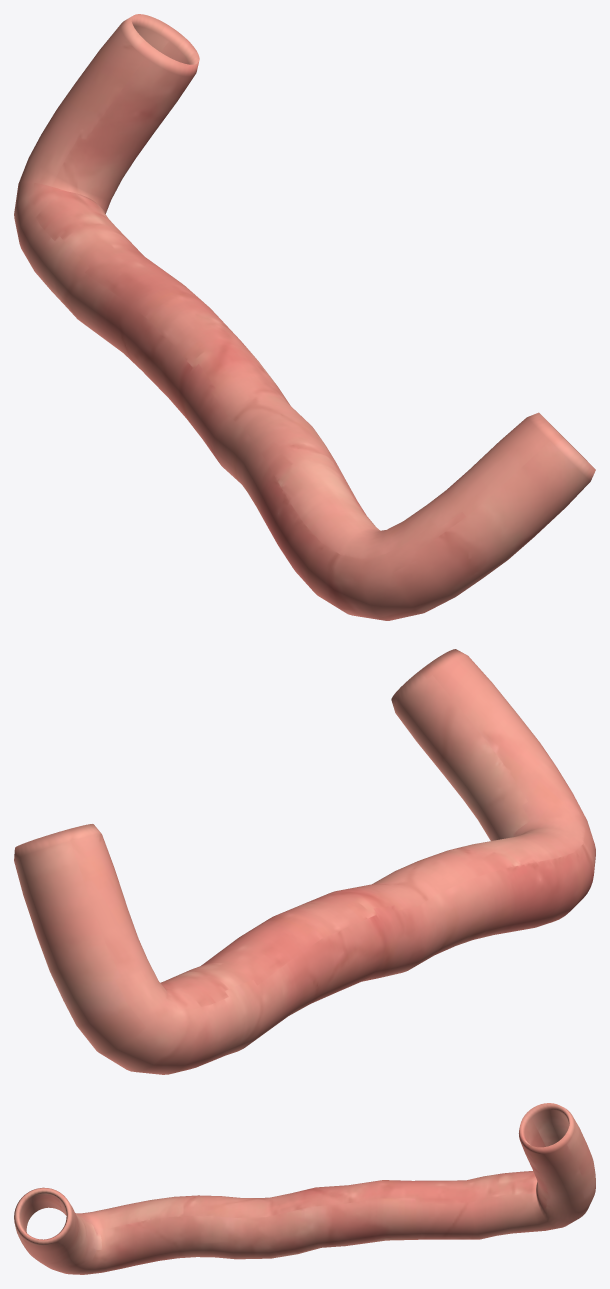
File: Duodenom.glb
3 views of the same model, one above another, from view 1: azimuth 30°, elevation 25°; view 2: azimuth 150°, elevation 25°; view 3: azimuth 270°, elevation 25° (orthographic). The views are drawn at different scales.
Parts seen in each view (by area): view 1: Duodenum; view 2: Duodenum; view 3: Duodenum.
Part boxes in pixels (x1,y1,x2,y2): Duodenum: (14, 14, 595, 620); Duodenum: (14, 649, 595, 1074); Duodenum: (14, 1103, 595, 1274).
Size of the model in its own units: 24.44 by 31.44 by 81.44.
Materials: 1 (1 with a texture image).
